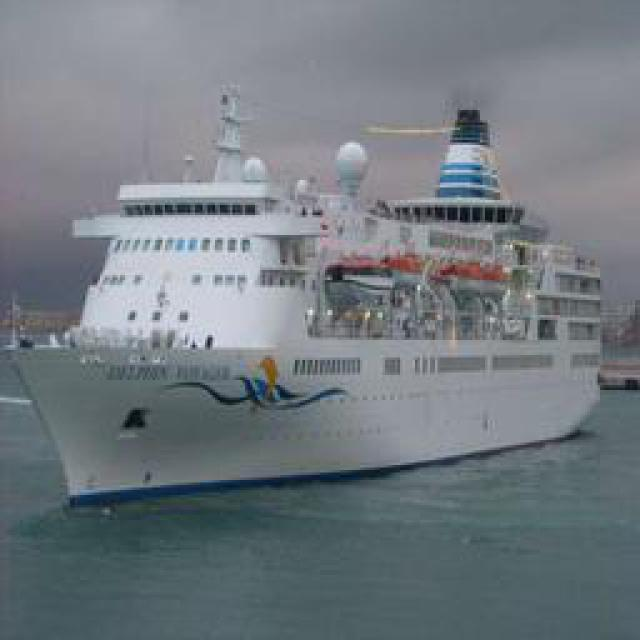Ship: (16, 86, 606, 521)
